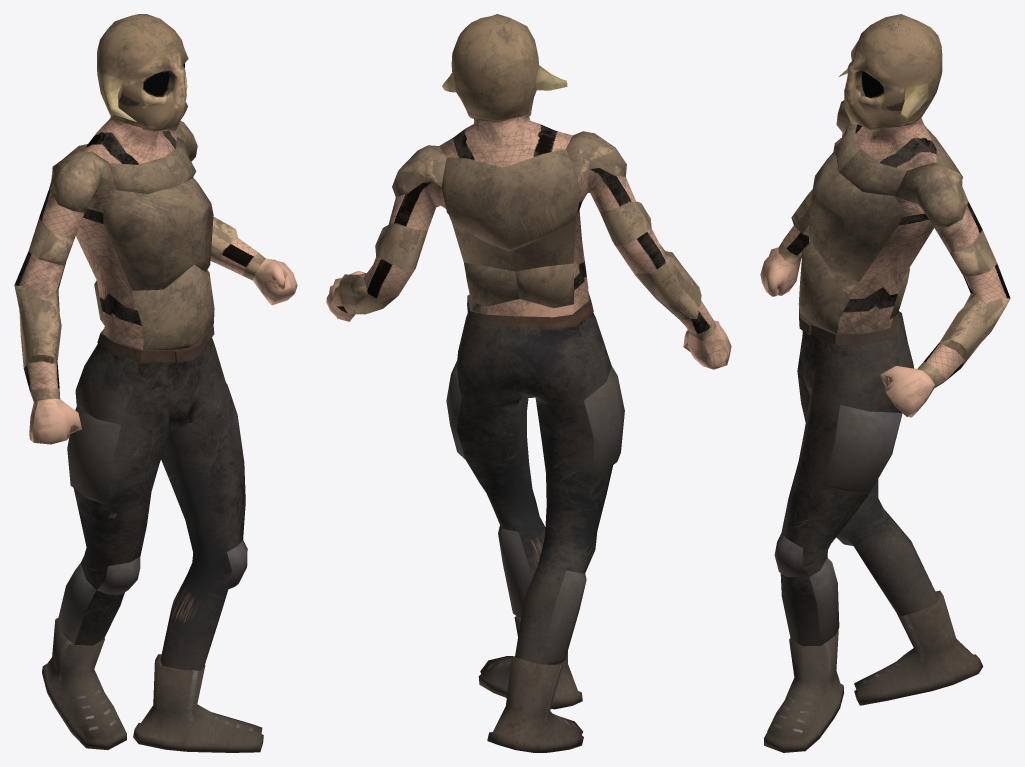
The model's file is Anim_ataque_f2_npc1.0013.obj.
3 views of the same model, side by side, from view 1: azimuth 30°, elevation 25°; view 2: azimuth 150°, elevation 25°; view 3: azimuth 270°, elevation 25° (orthographic). The views are drawn at different scales.
Visible parts, largest first — view 1: NPC2; view 2: NPC2; view 3: NPC2.
Part boxes in pixels (x1=…): NPC2: x1=14, y1=14, x2=297, y2=752; NPC2: x1=326, y1=14, x2=731, y2=752; NPC2: x1=760, y1=14, x2=1010, y2=752.
Bounding box in the file's own units: 4.61 × 9.53 × 3.06.
